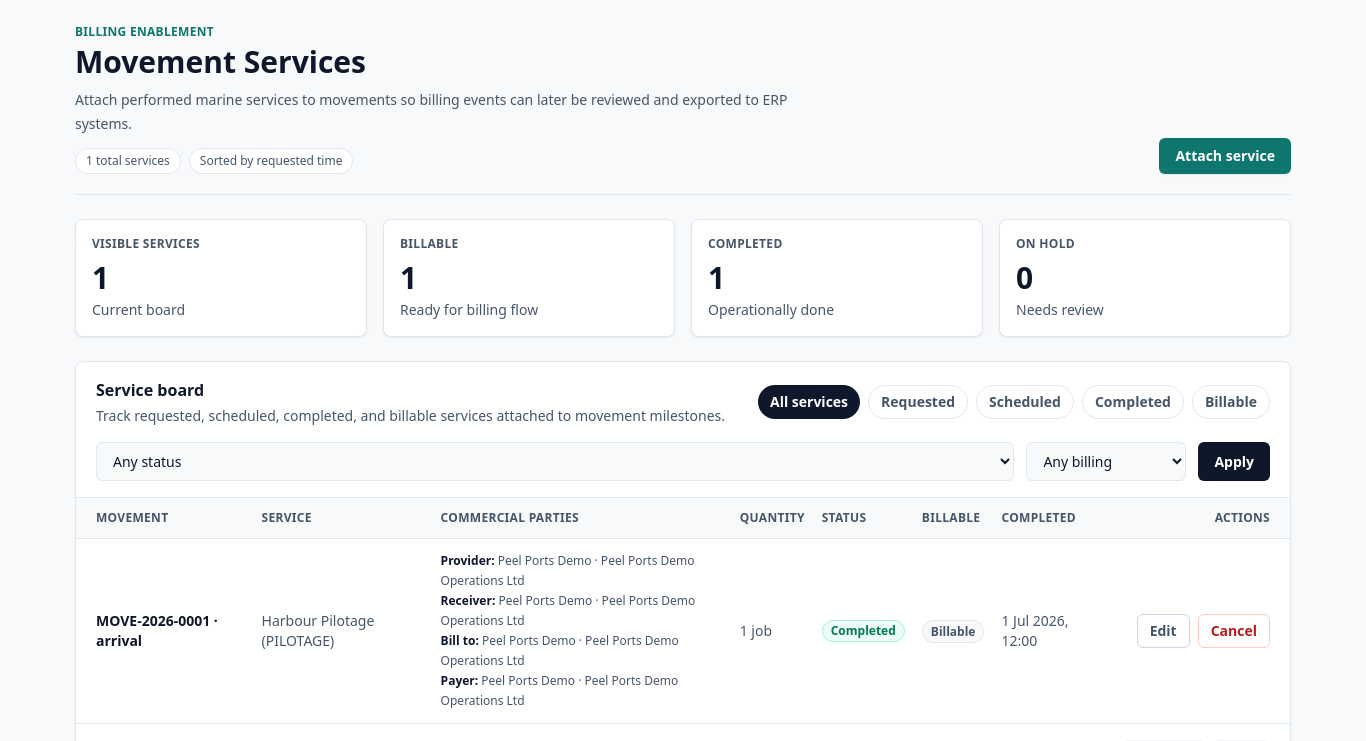
it: MovementServicesPage › opens the movement service editor from the workspace action
Expected: the text "Harbour Pilotage (PILOTAGE)" is shown, [261,538,440,723]
Click the button "Attach service" at x=1225, y=156, box [1159,138,1291,174]
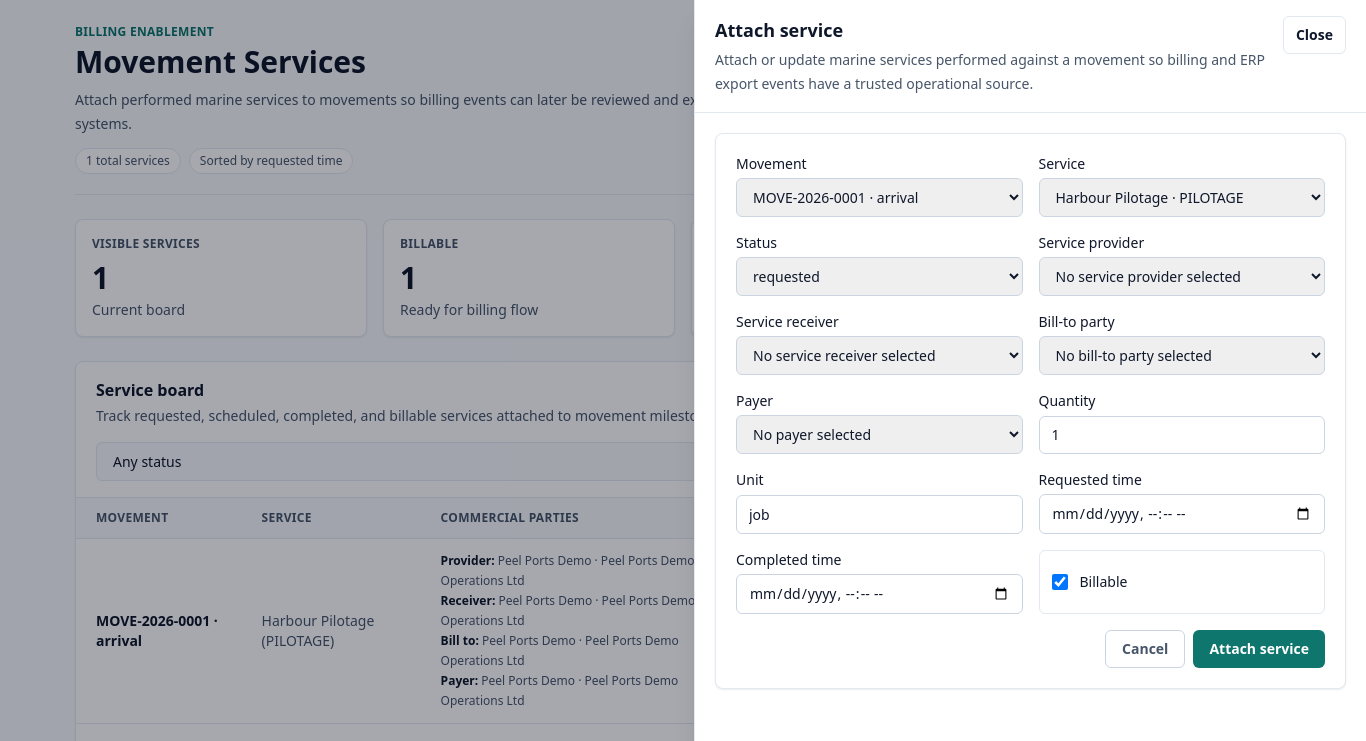
Expected: the heading "Attach service" is shown, [715,18,843,42]
